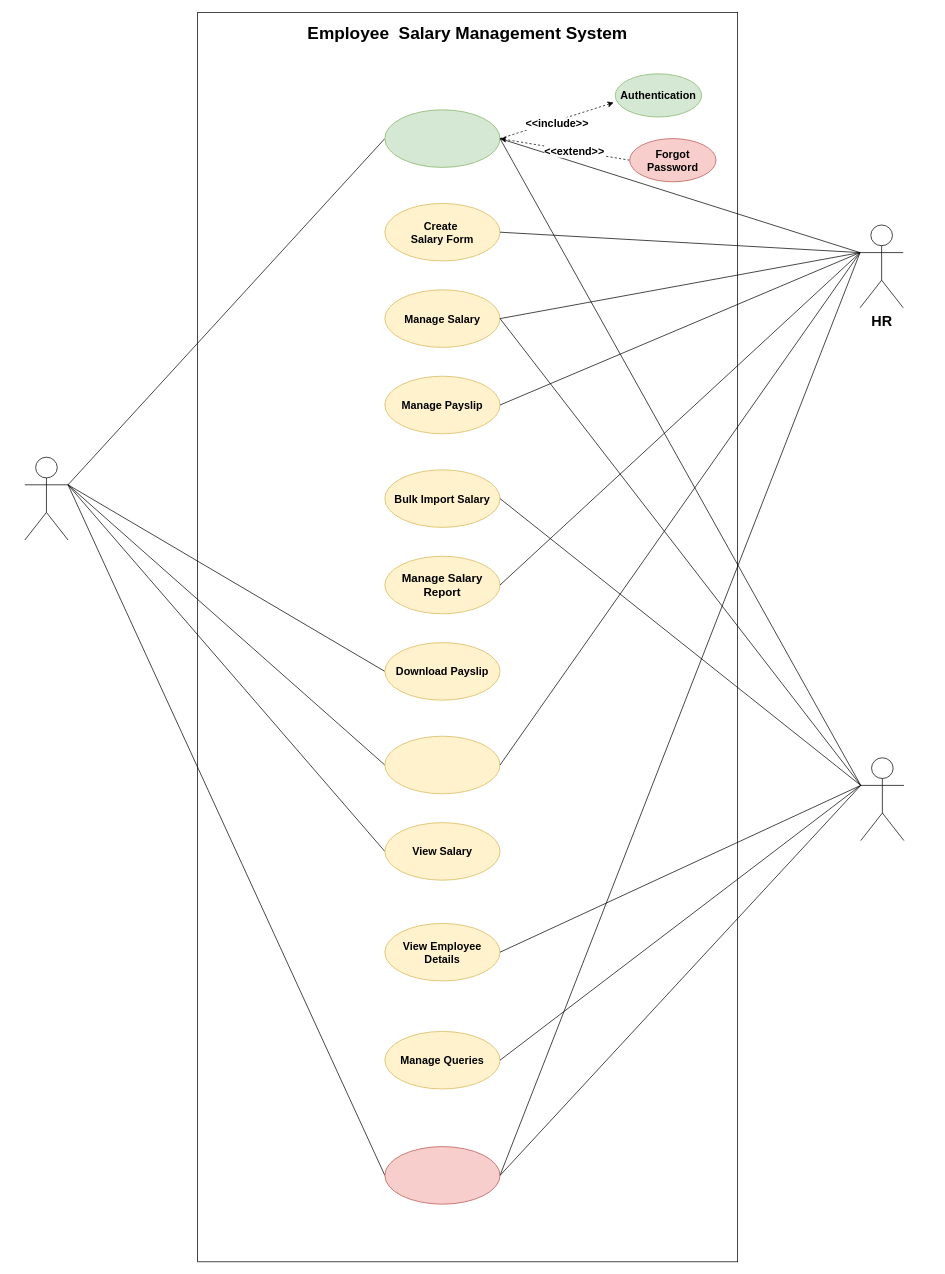
Some shapes in this 945 by 1274 pixel diagram are drawn without their labels. The shapes that lost their labels are listed below. From the top down, each one's centre as x and y in pixels, then its label:
point (442, 138): Login
point (46, 498): Employee
point (442, 764): Download Salary Report
point (882, 799): ACCOUNTANT
point (442, 1175): Logout
